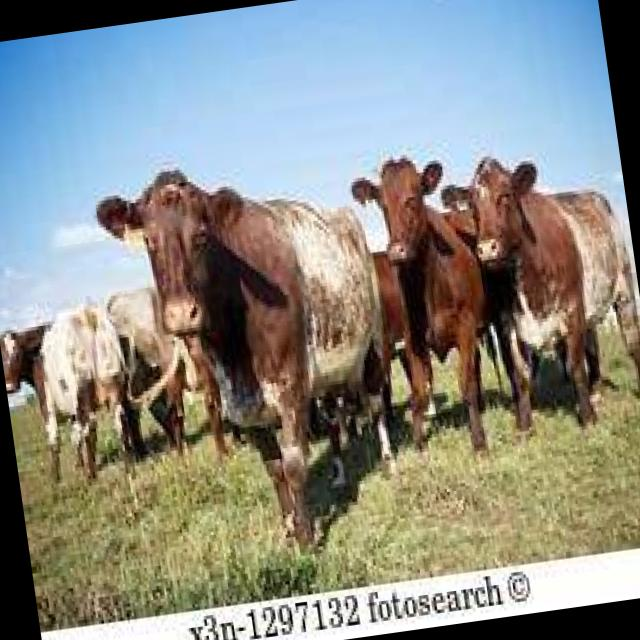animal: (90, 138, 412, 574), (434, 135, 640, 445), (346, 146, 508, 467), (0, 277, 145, 489)
